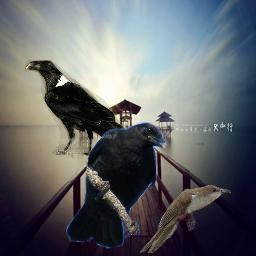Crow: (66, 122, 169, 249), (25, 60, 142, 159)
Cuckoo: (140, 185, 231, 253)
